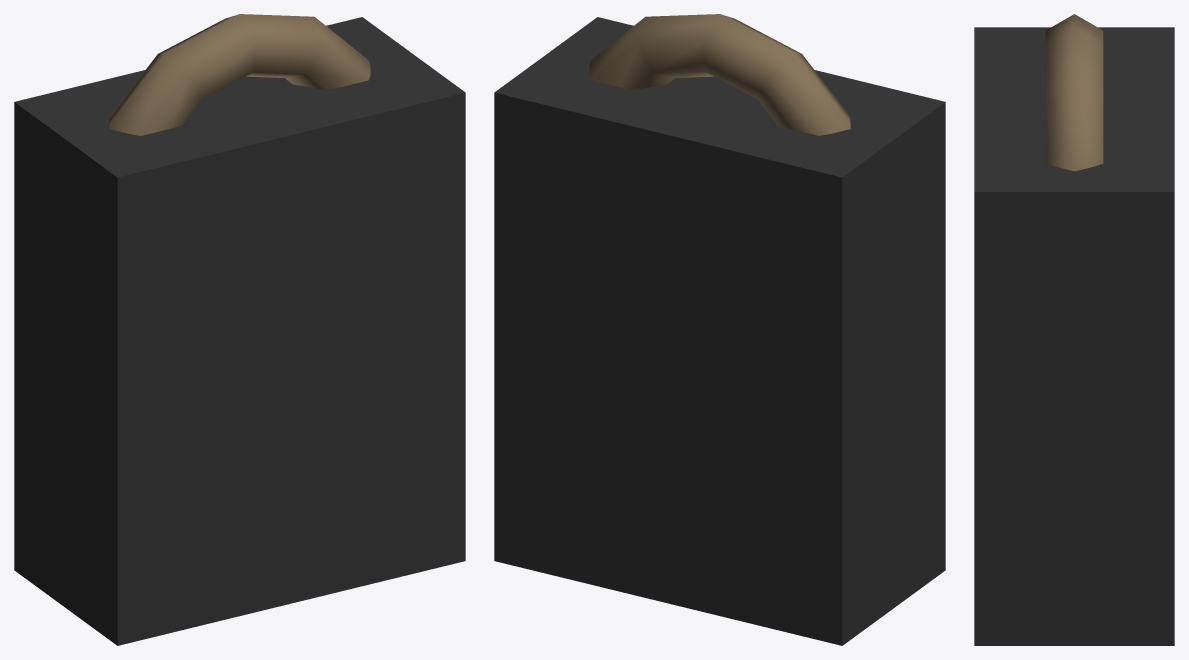
Rendered from stone-anchor-089bc55a.glb.
3 renders of one model, left to right at view 1: azimuth 30°, elevation 25°; view 2: azimuth 150°, elevation 25°; view 3: azimuth 270°, elevation 25°, orthographic. The views are drawn at different scales.
Bounding box in the file's own units: 0.35 × 0.53 × 0.18.
